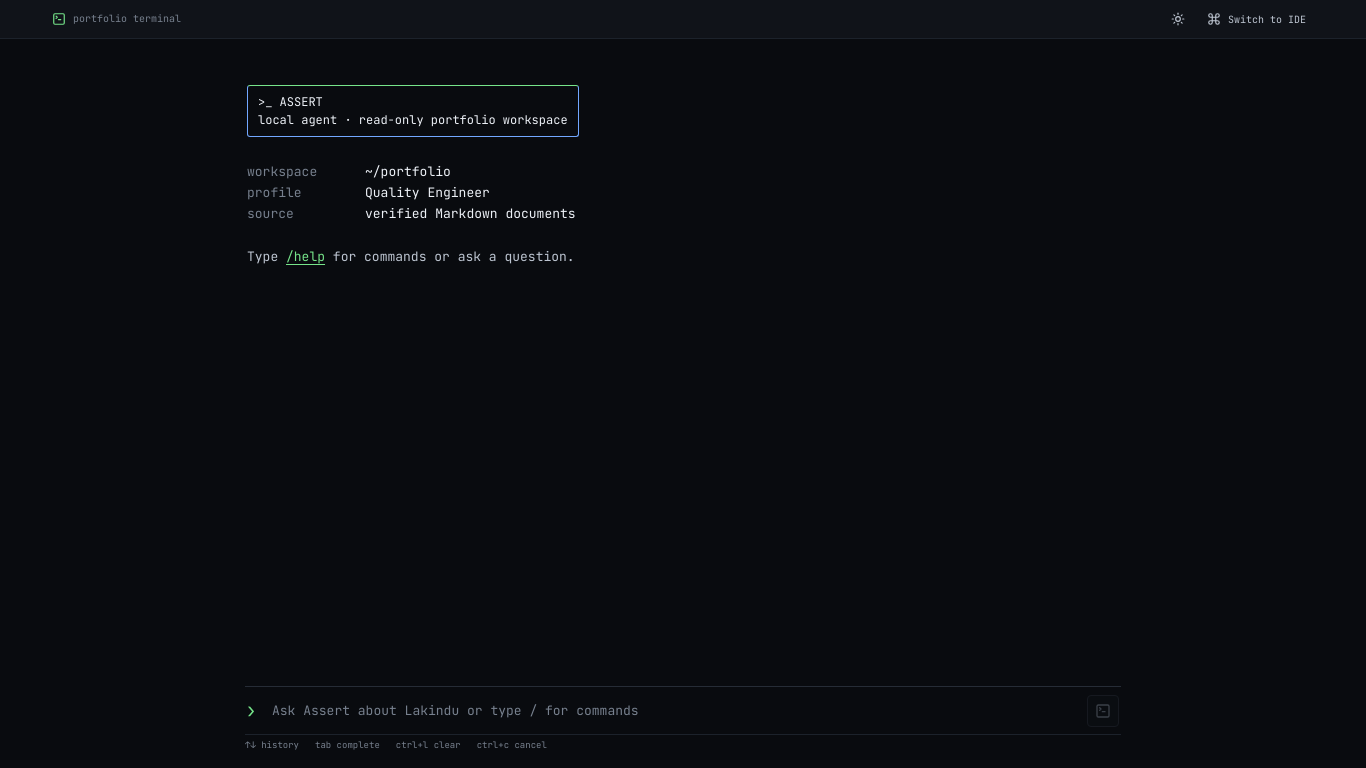
Assert terminal › uses Enter to show the remaining response immediately
Type "/contact" into the field named "Terminal command".
click(676, 710); type("/contact")  # box [270,701,1082,720]
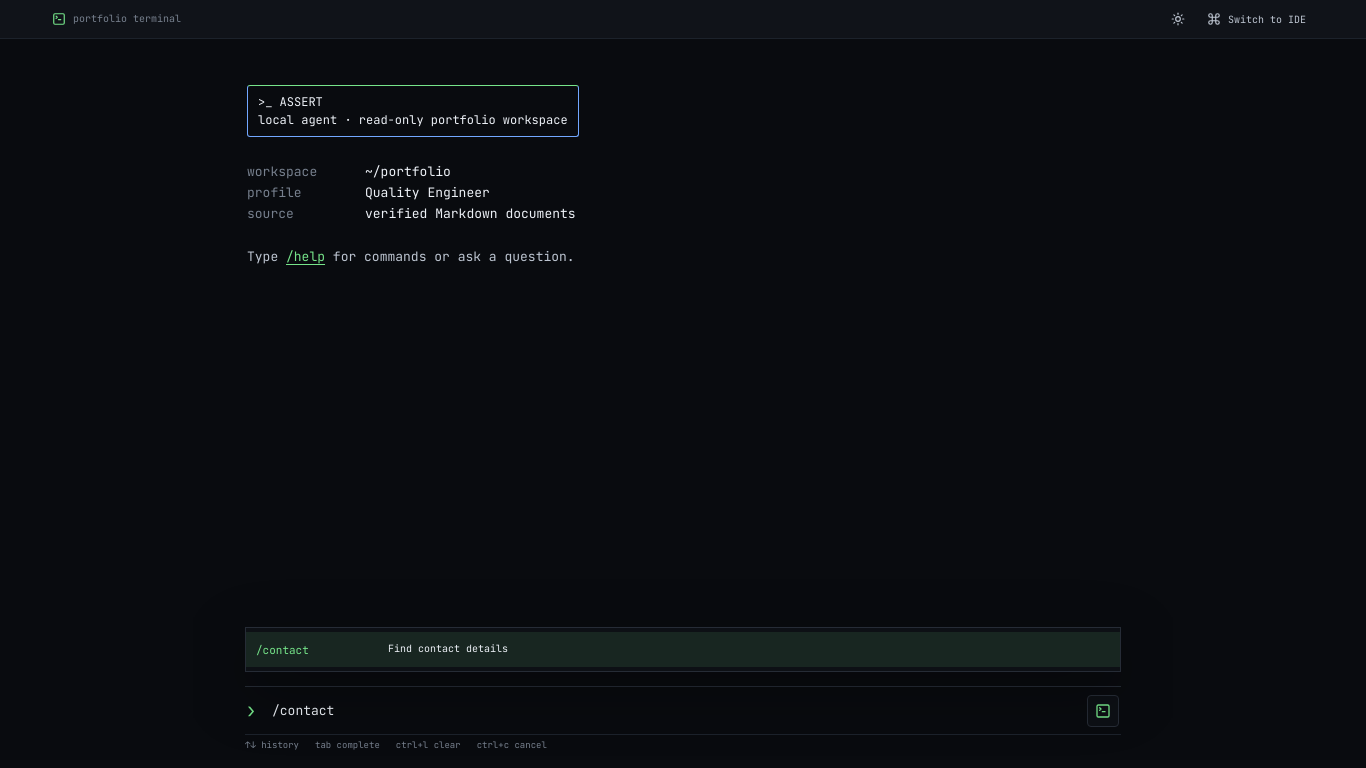
Submit the form named "Terminal command", box [245,686,1121,734]
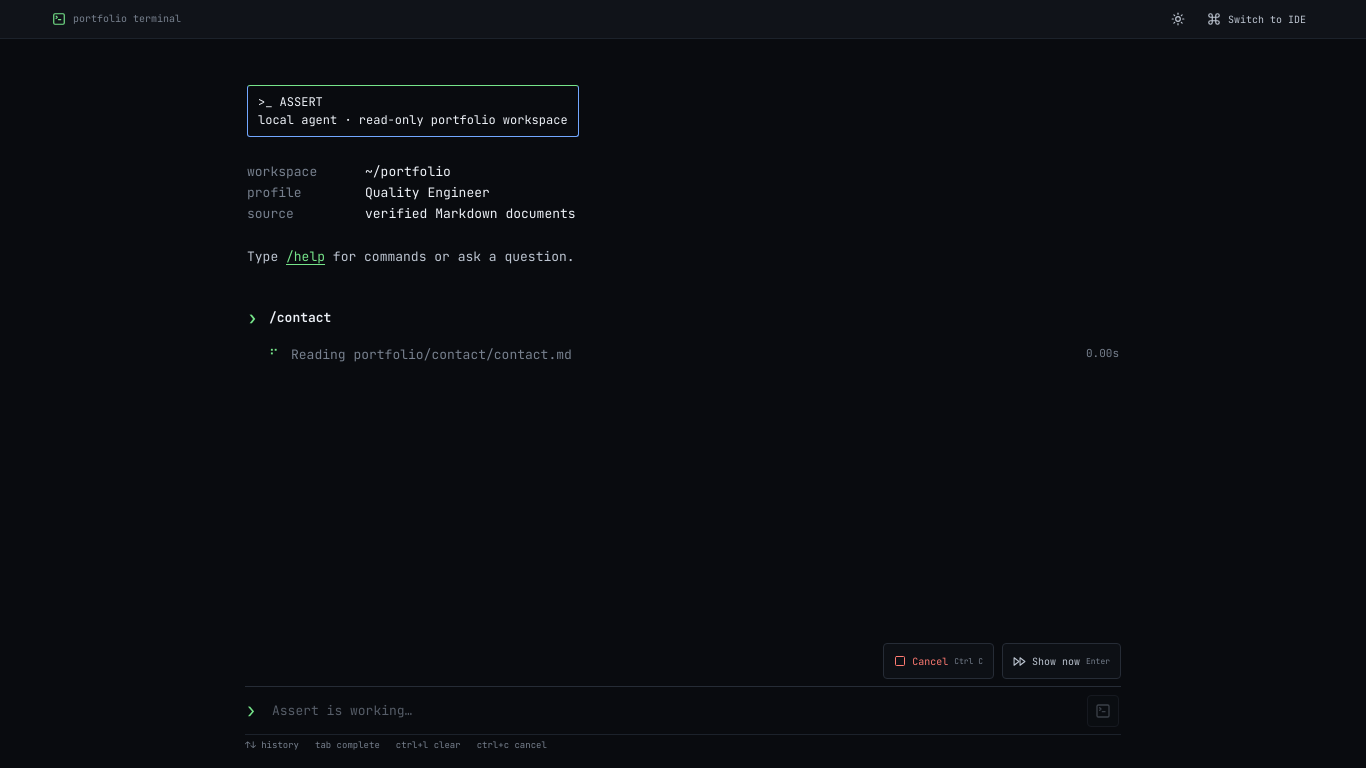
Press Enter
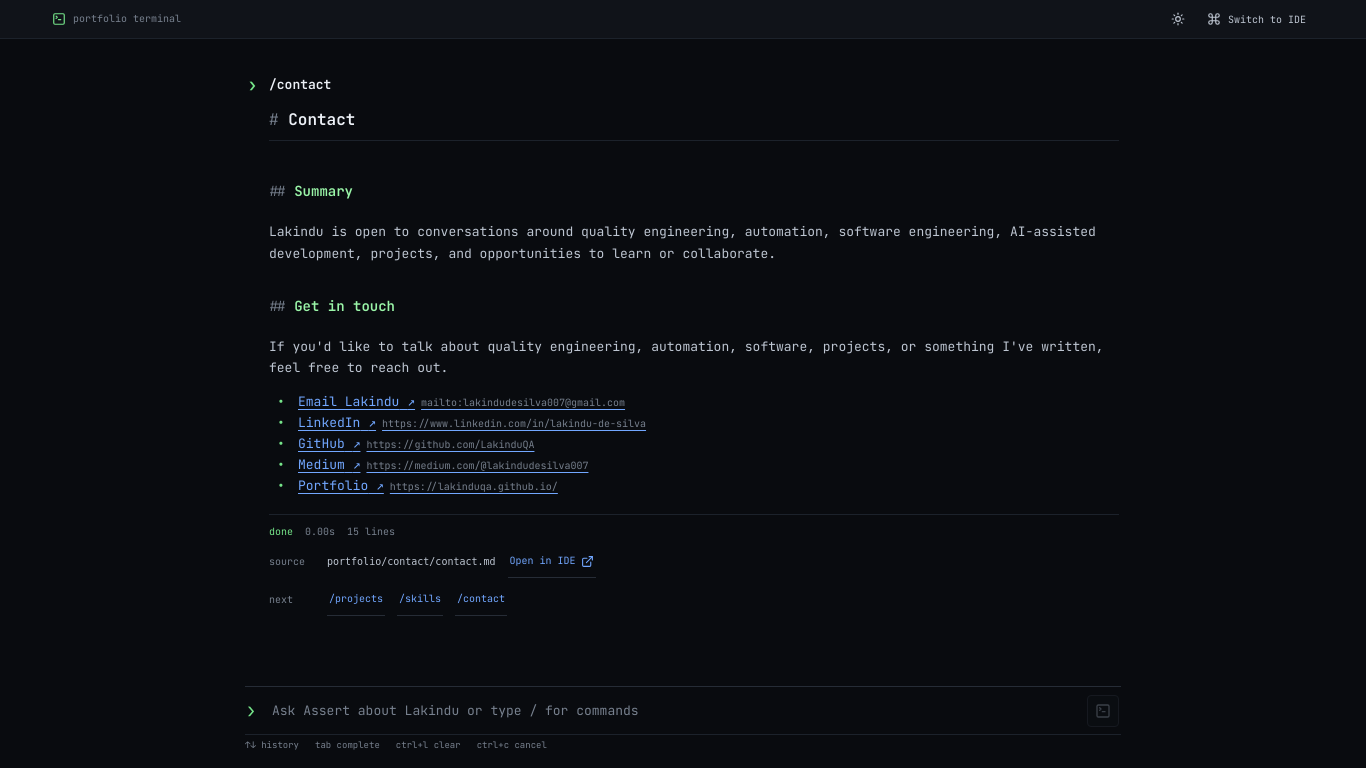
Now the text "Contact" is shown, box [288,109,355,130]
Now the field named "Terminal command" is enabled, box [270,701,1082,720]
